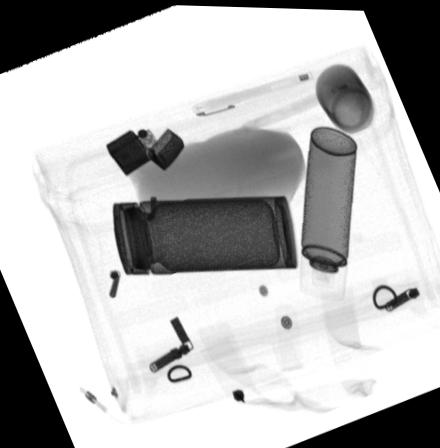Lighter: (107, 127, 186, 175)
Sprayer: (299, 124, 359, 299)
